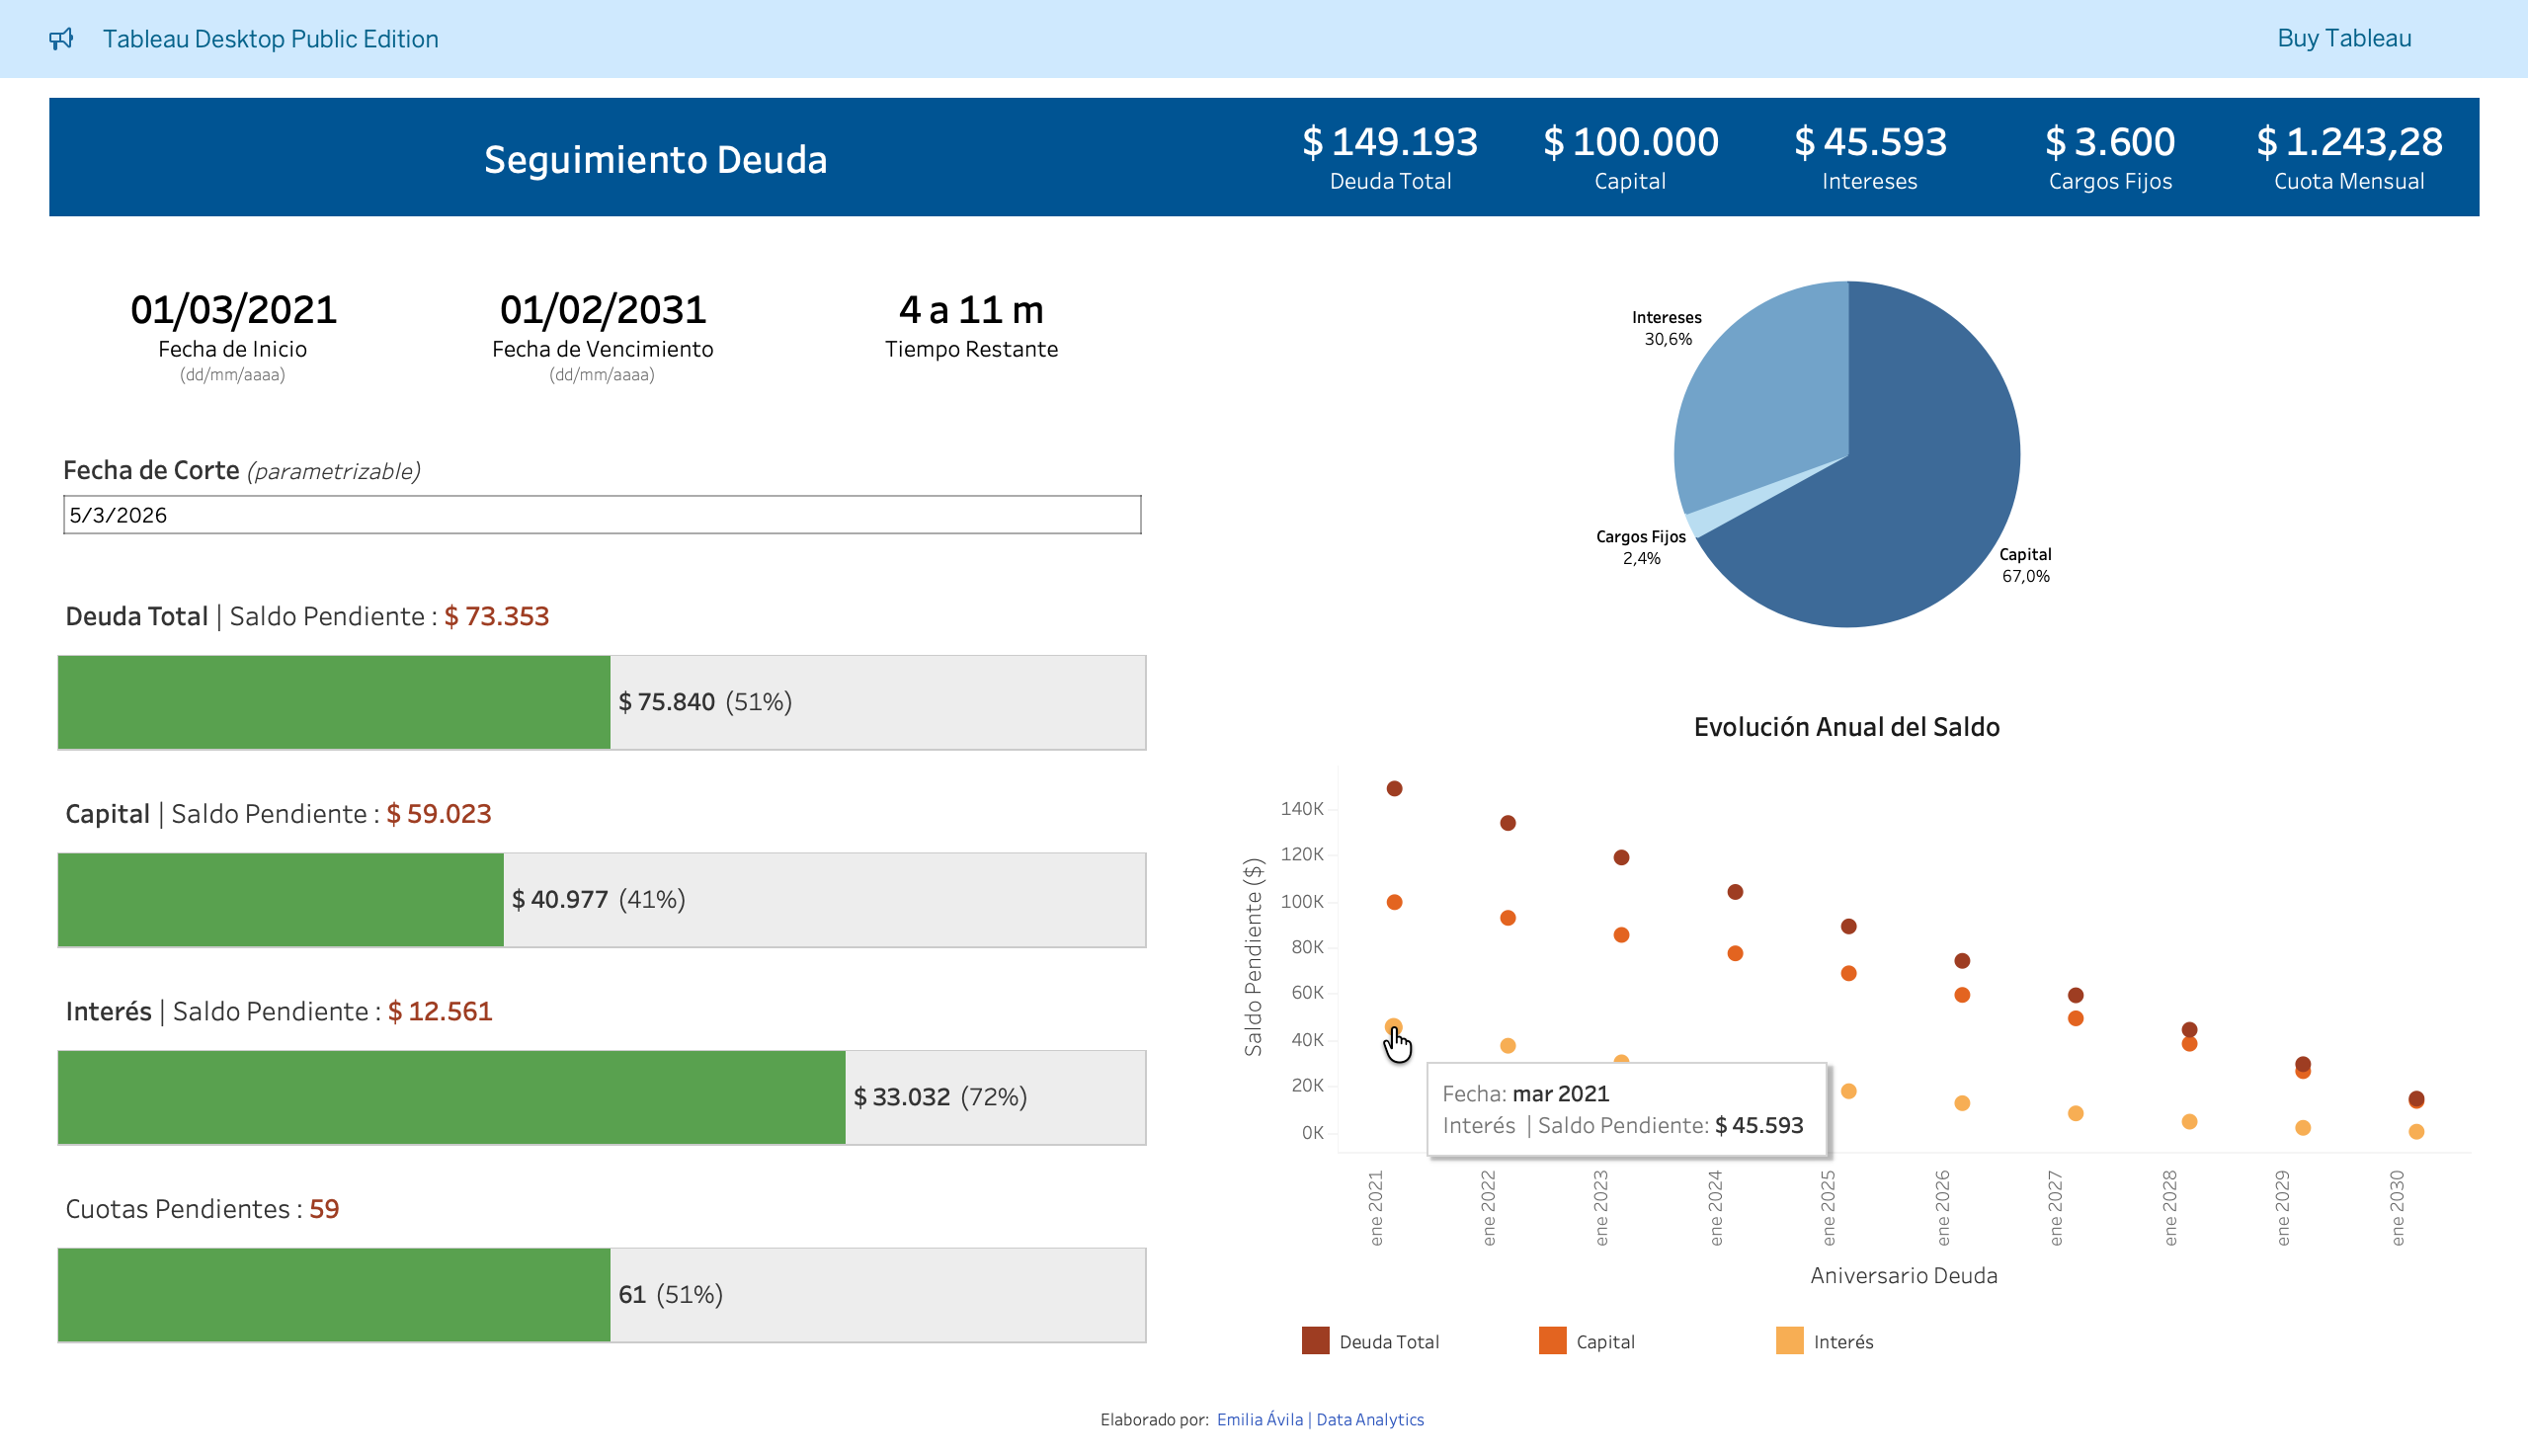

The page's visual inventory and layout, read from the dashboard file:
{"tool":"tableau","page":{"name":"Seguimiento Deuda","canvas":[1250,700],"ordinal":0},"visuals":[{"type":"text","box":[10,10,615,60]},{"type":"worksheet","title":"KPIs","mark":"Automatic","box":[625,10,615,60]},{"type":"blank","box":[10,70,560,30]},{"type":"blank","box":[570,70,30,585]},{"type":"worksheet","title":"Composición Deuda","mark":"Pie","box":[600,70,640,241]},{"type":"worksheet","title":"KPI - Fecha de Inicio","mark":"Automatic","box":[10,100,187,65]},{"type":"worksheet","title":"KPI - Fecha de Vencimiento","mark":"Automatic","box":[197,100,187,65]},{"type":"worksheet","title":"KPI - Tiempo Restante","mark":"Automatic","box":[384,100,186,65]},{"type":"blank","box":[10,165,560,20]},{"type":"parameter","param":"[Parameters].[Parameter 1]","box":[10,185,560,50]},{"type":"blank","box":[10,235,560,20]},{"type":"worksheet","title":"Progreso - Deuda Total","mark":"Bar","cols":["Calculation_1148137934893065","Calculation_1148137932992520"],"box":[10,255,560,90]},{"type":"worksheet","title":"Evolución Anual del Saldo","mark":"Line","cols":["fecha_pago"],"box":[600,311,640,314]},{"type":"blank","box":[10,345,560,10]},{"type":"worksheet","title":"Progreso - Capital","mark":"Bar","cols":["Calculation_1148137934893065","Calculation_1148138065412106"],"box":[10,355,560,90]},{"type":"blank","box":[10,445,560,10]},{"type":"worksheet","title":"Progreso - Interés","mark":"Bar","cols":["Calculation_1148137934893065","Calculation_1148138293788696"],"box":[10,455,560,90]},{"type":"blank","box":[10,545,560,10]},{"type":"worksheet","title":"Progreso - Cuotas","mark":"Bar","cols":["Calculation_1148137934893065","Calculation_1148138298109978"],"box":[10,555,560,90]},{"type":"blank","box":[600,625,37,30]},{"type":"legend","title":"Evolución Anual del Saldo","param":"[federated.1x08bp3026zesi1cfcezb0z6w6e5].[:Measure Names]","box":[637,625,526,30]},{"type":"worksheet","title":"LinkedIn Button","mark":"Automatic","box":[10,655,1230,35]}]}

Visuals, with their boxes on the page's 1250x700 design canvas (x1, y1, x2, y2). These are canvas units, not pixel positions in the 2528x1456 screenshot, which may show the page scaled, cropped or inside an application window:
text: BBox(10, 10, 625, 70)
"KPIs" worksheet: BBox(625, 10, 1240, 70)
blank: BBox(10, 70, 570, 100)
blank: BBox(570, 70, 600, 655)
"Composición Deuda" worksheet (Pie marks): BBox(600, 70, 1240, 311)
"KPI - Fecha de Inicio" worksheet: BBox(10, 100, 197, 165)
"KPI - Fecha de Vencimiento" worksheet: BBox(197, 100, 384, 165)
"KPI - Tiempo Restante" worksheet: BBox(384, 100, 570, 165)
blank: BBox(10, 165, 570, 185)
parameter: BBox(10, 185, 570, 235)
blank: BBox(10, 235, 570, 255)
"Progreso - Deuda Total" worksheet (Bar marks): BBox(10, 255, 570, 345)
"Evolución Anual del Saldo" worksheet (Line marks): BBox(600, 311, 1240, 625)
blank: BBox(10, 345, 570, 355)
"Progreso - Capital" worksheet (Bar marks): BBox(10, 355, 570, 445)
blank: BBox(10, 445, 570, 455)
"Progreso - Interés" worksheet (Bar marks): BBox(10, 455, 570, 545)
blank: BBox(10, 545, 570, 555)
"Progreso - Cuotas" worksheet (Bar marks): BBox(10, 555, 570, 645)
blank: BBox(600, 625, 637, 655)
"Evolución Anual del Saldo" legend: BBox(637, 625, 1163, 655)
"LinkedIn Button" worksheet: BBox(10, 655, 1240, 690)
